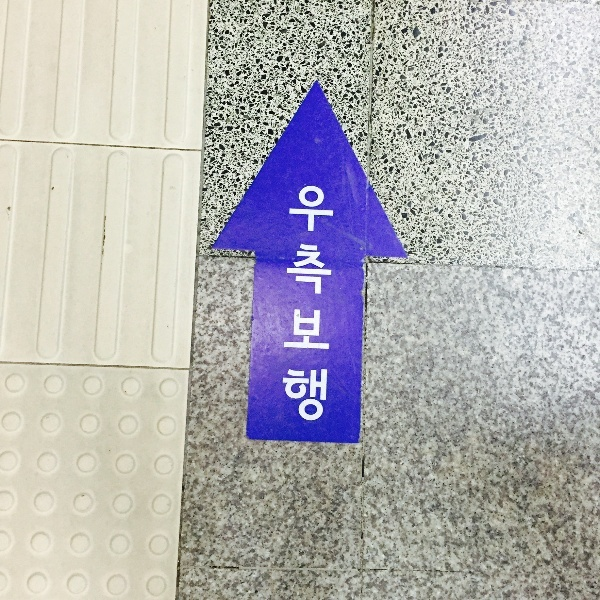text: (289, 175, 304, 428), (305, 175, 320, 428), (321, 175, 336, 428), (337, 175, 343, 428), (284, 175, 288, 428)
